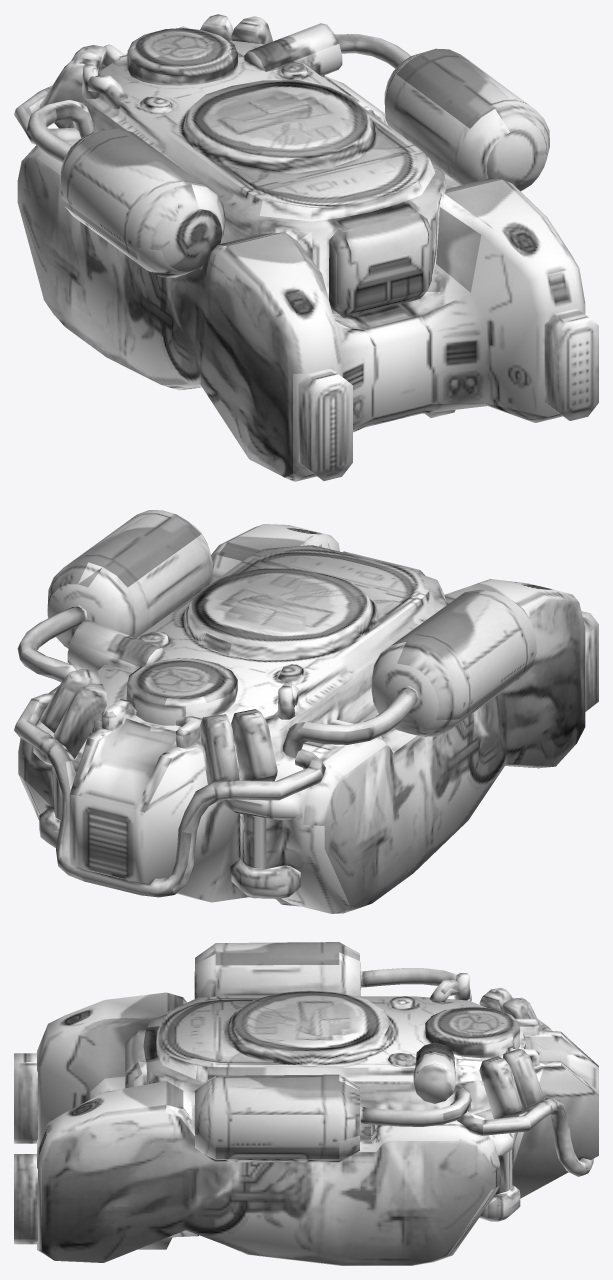
The model's file is body.glb.
3 renders of one model, top to bottom at view 1: azimuth 30°, elevation 25°; view 2: azimuth 150°, elevation 25°; view 3: azimuth 270°, elevation 25°, orthographic. The views are drawn at different scales.
Visible parts, largest first — view 1: body; view 2: body; view 3: body.
Part boxes in pixels (box(x1,y1,x2,y2)): body: box(14, 14, 598, 481); body: box(14, 510, 598, 913); body: box(14, 942, 598, 1265).
Bounding box in the file's own units: 1.77 × 1.04 × 2.58.
Materials: 3 (3 with a texture image).
